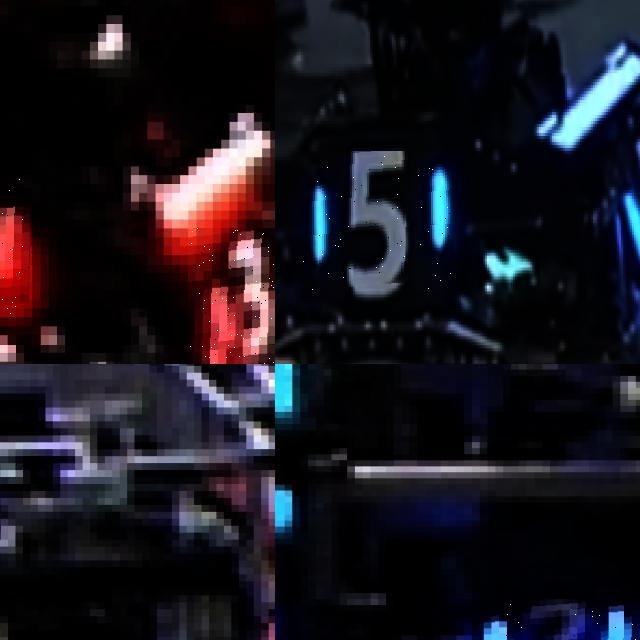B2: (479, 599, 640, 640)
B5: (303, 151, 457, 291)
R3: (188, 228, 275, 364)
